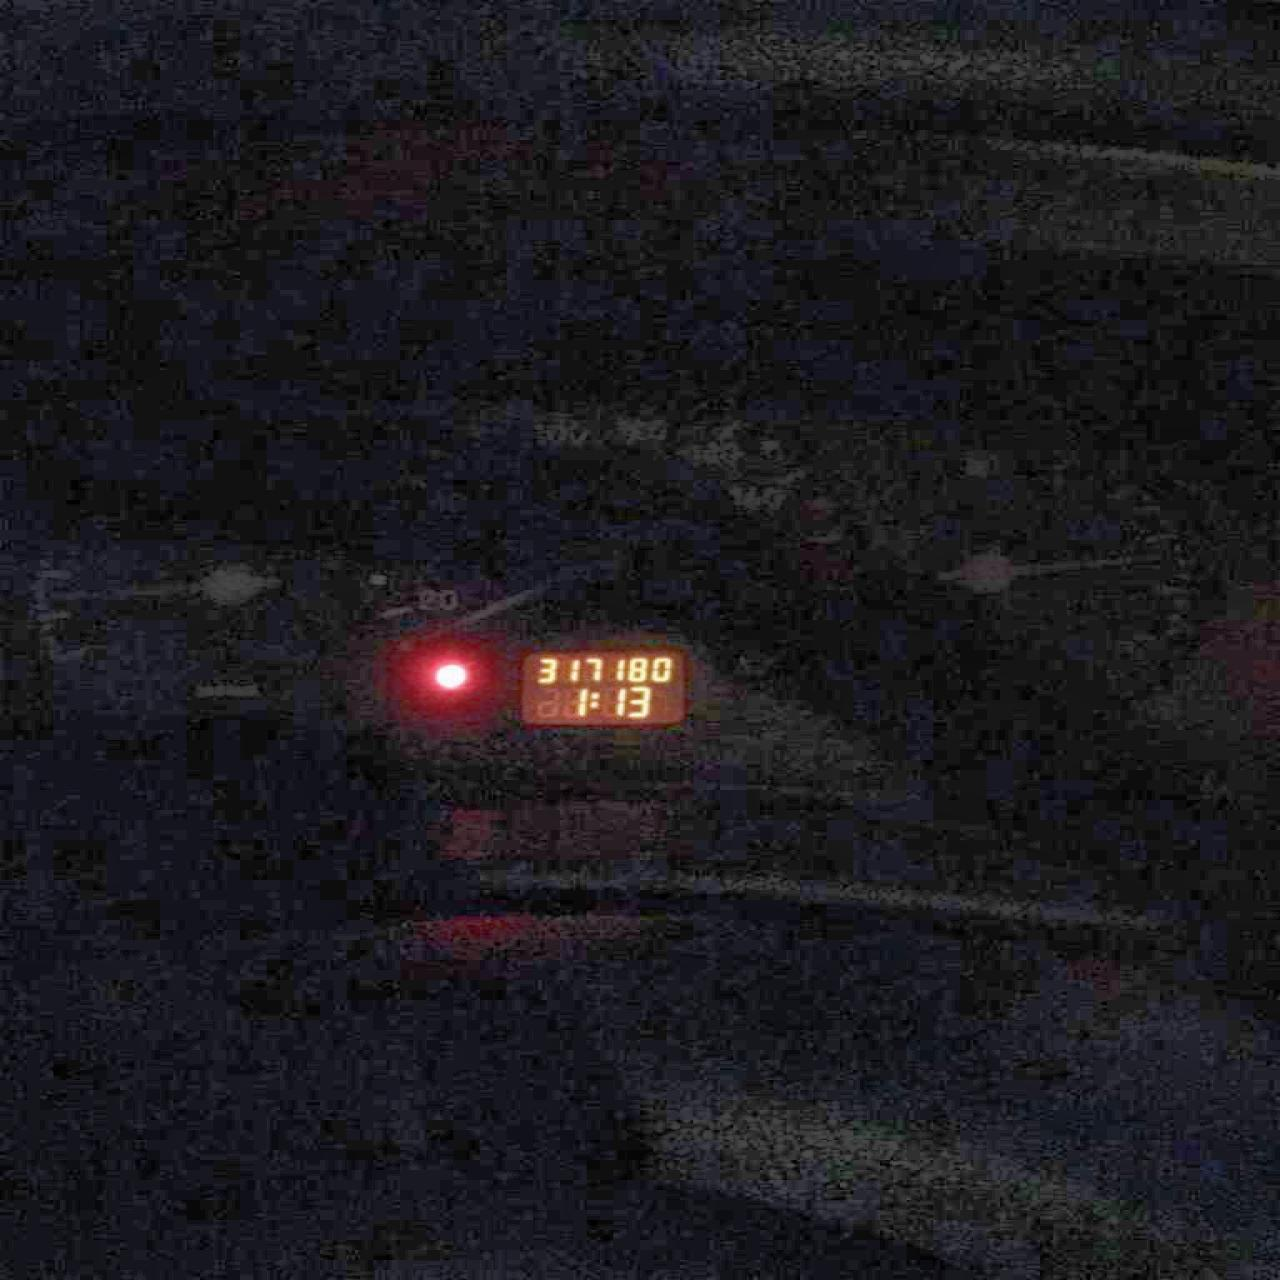1: (576, 687, 587, 717), (613, 687, 624, 717), (568, 658, 580, 682), (613, 656, 625, 680)
3: (625, 683, 651, 717), (536, 656, 557, 682)
7: (584, 655, 604, 680)
8: (626, 655, 647, 681)
X: (587, 690, 600, 709)
odometer: (509, 653, 682, 733)
